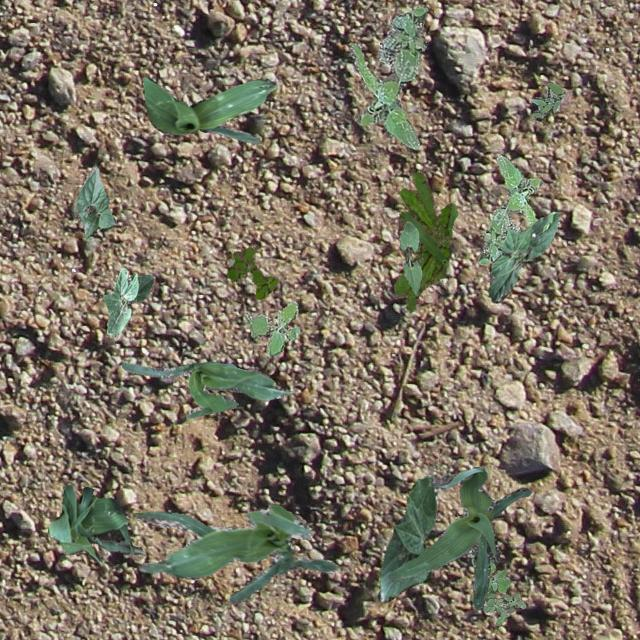crop: (132, 502, 338, 602), (388, 466, 530, 608), (120, 359, 288, 416), (142, 77, 276, 143), (46, 484, 144, 564), (377, 474, 438, 600), (488, 212, 560, 302), (102, 268, 154, 336), (74, 165, 114, 238), (398, 220, 421, 294)
weed: (350, 5, 428, 150), (392, 170, 457, 312), (476, 154, 542, 264), (470, 548, 524, 624), (244, 300, 298, 354), (226, 246, 278, 298), (530, 82, 562, 116)
